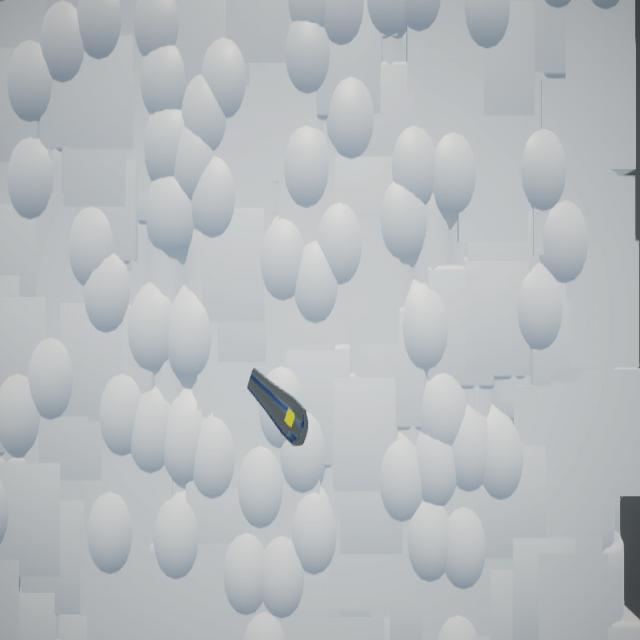handle_knife: (248, 368, 309, 447)
